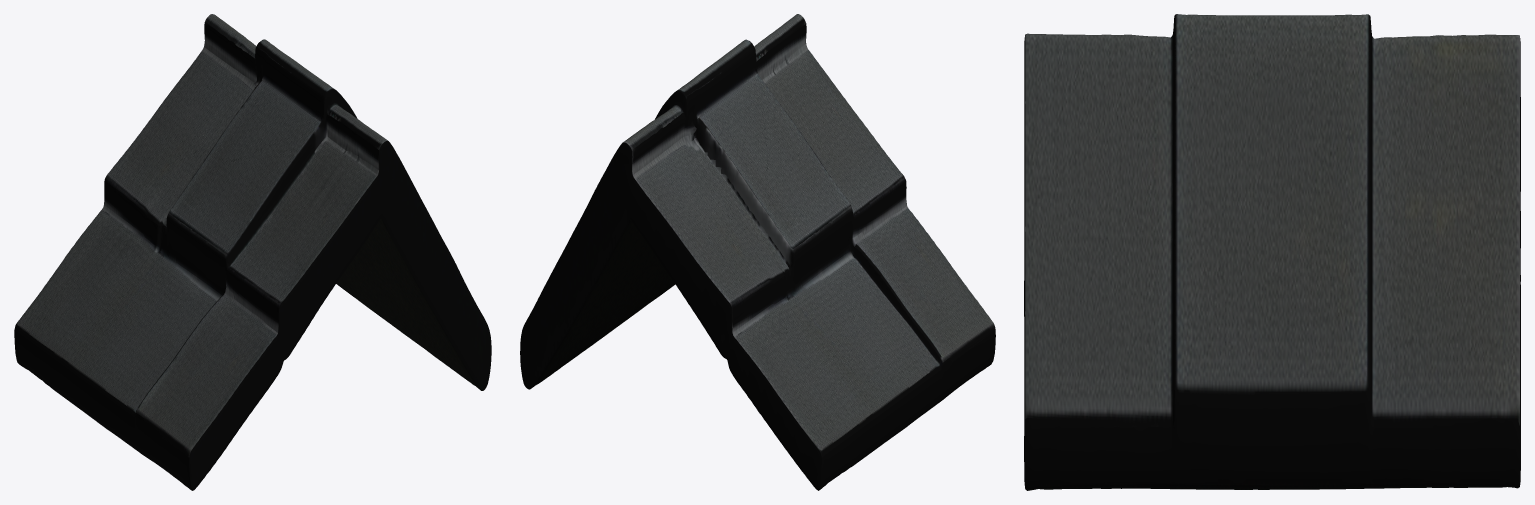
File: roof-ridge.glb
The picture shows the model from 3 angles, left to right: view 1: azimuth 30°, elevation 25°; view 2: azimuth 150°, elevation 25°; view 3: azimuth 270°, elevation 25°; orthographic projection. The views are drawn at different scales.
Parts seen in each view (by area): view 1: tmp0eou7ao0.ply; view 2: tmp0eou7ao0.ply; view 3: tmp0eou7ao0.ply.
Boxes of the visible parts, x1=… form: tmp0eou7ao0.ply: x1=14, y1=14, x2=491, y2=490; tmp0eou7ao0.ply: x1=520, y1=14, x2=995, y2=490; tmp0eou7ao0.ply: x1=1024, y1=14, x2=1520, y2=490.
Bounding box in the file's own units: 1 × 1 × 1.
1 material, 1 textured.
